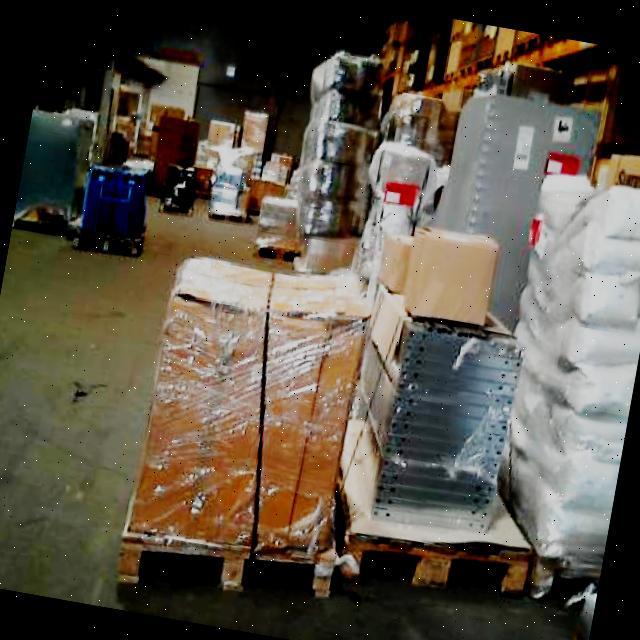ground: (0, 157, 640, 640)
pallet: (319, 215, 587, 607), (113, 241, 385, 618), (361, 6, 640, 170), (318, 414, 552, 609), (333, 515, 534, 611), (144, 113, 200, 200)
